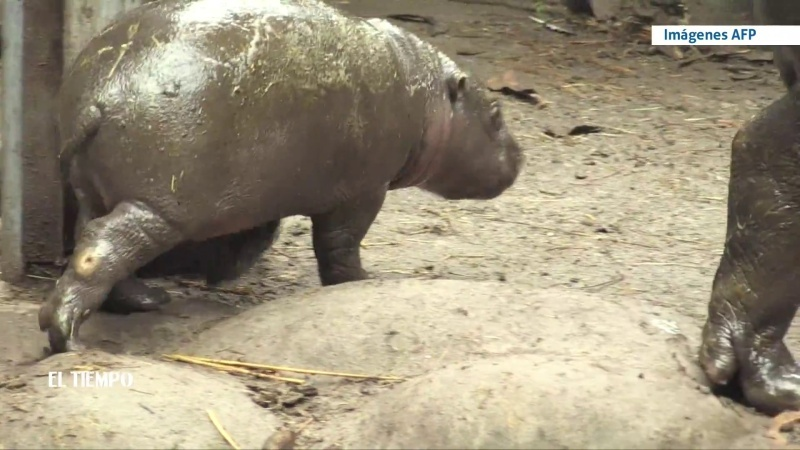hipopotamo: (39, 1, 529, 372)
